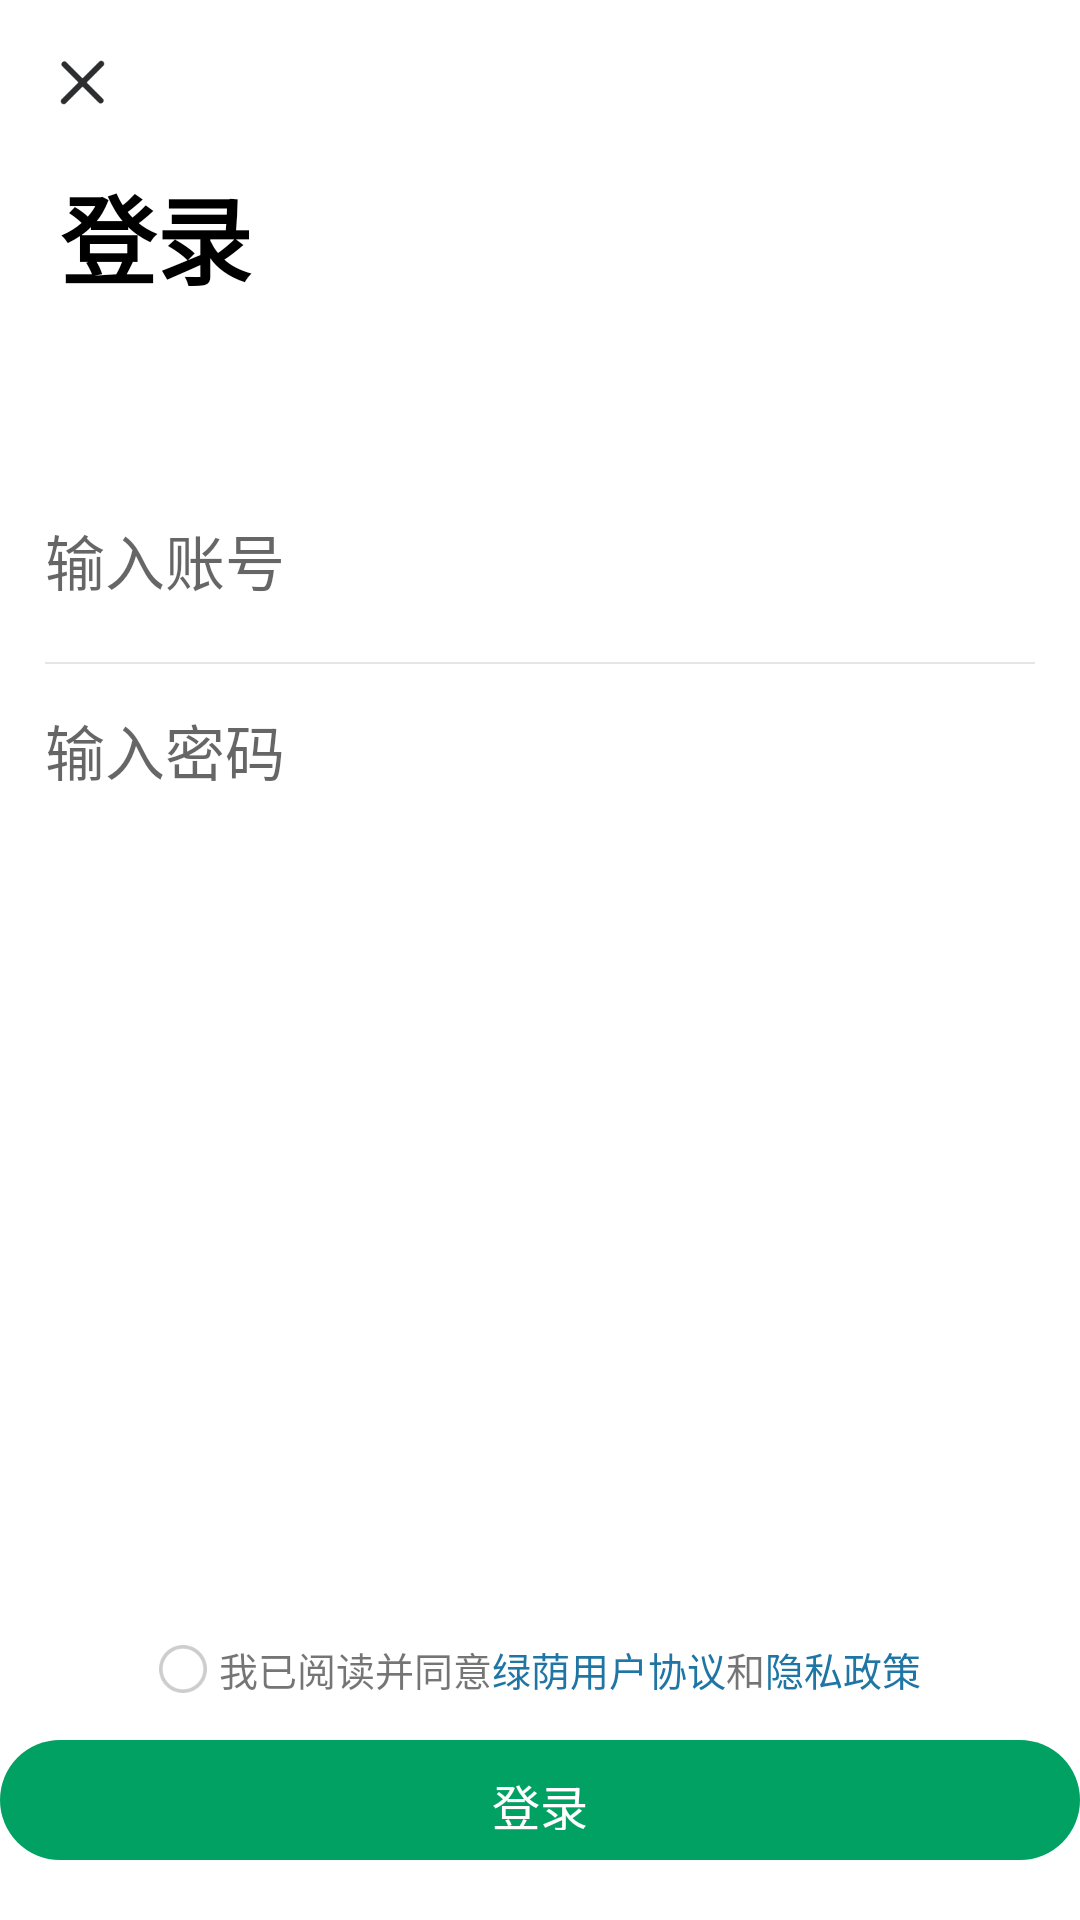

Where icons sit on this 1080*1920 app screen, as Rect(x1, y1, x2, y2):
close: Rect(60, 60, 105, 105)
login cb: Rect(159, 1645, 207, 1693)
